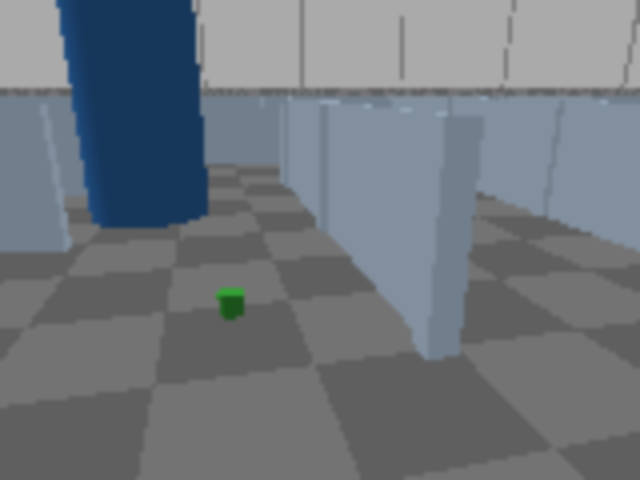puck: (220, 287, 243, 318)
